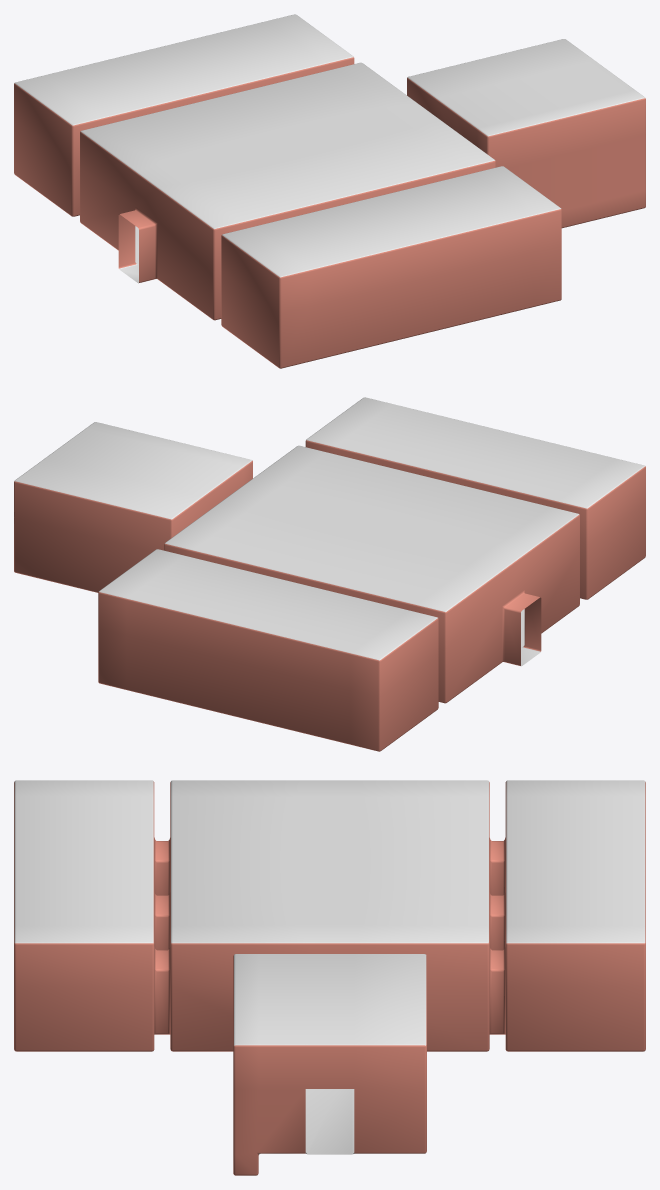
Rendered from Levels04.fbx.
3 renders of one model, top to bottom at view 1: azimuth 30°, elevation 25°; view 2: azimuth 150°, elevation 25°; view 3: azimuth 270°, elevation 25°, orthographic. The views are drawn at different scales.
Visible parts, largest first — view 1: Rooms.004; view 2: Rooms.004; view 3: Rooms.004.
Part boxes in pixels (x1,y1,x2,y2): Rooms.004: (14, 14, 645, 368); Rooms.004: (14, 397, 645, 751); Rooms.004: (14, 780, 645, 1175).
Size of the model in its own units: 27 by 6 by 26.14.
